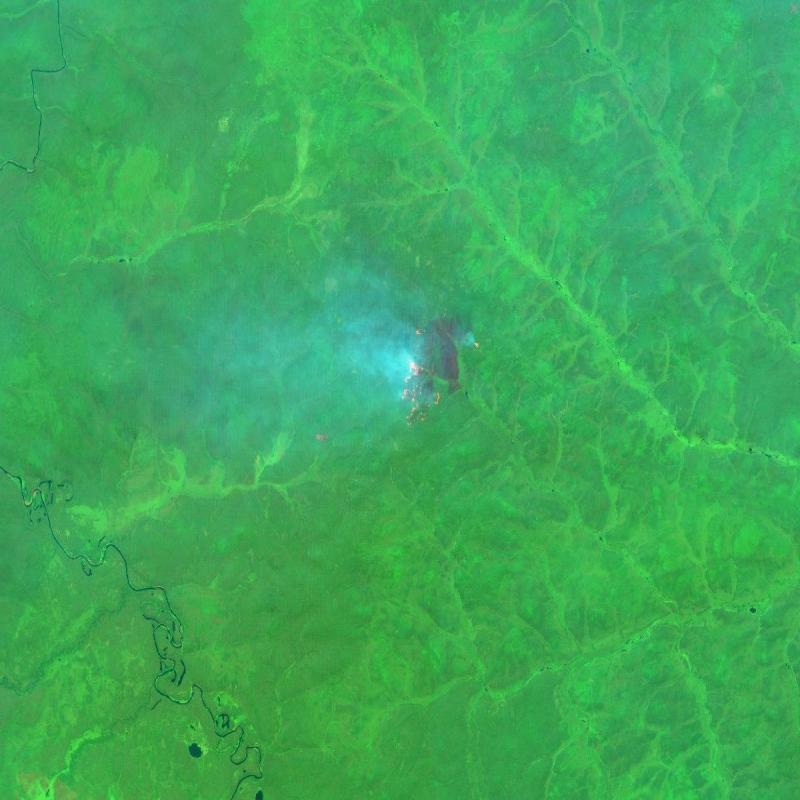fire: (398, 317, 477, 435)
